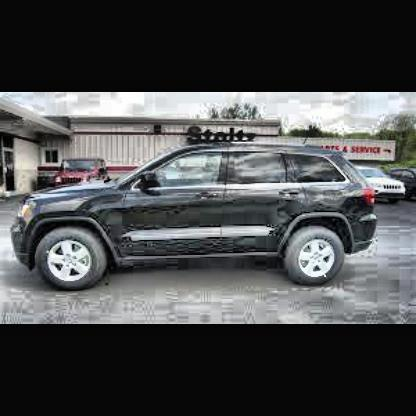Jeep Grand Cherokee SUV 2012: (10, 144, 380, 292)
